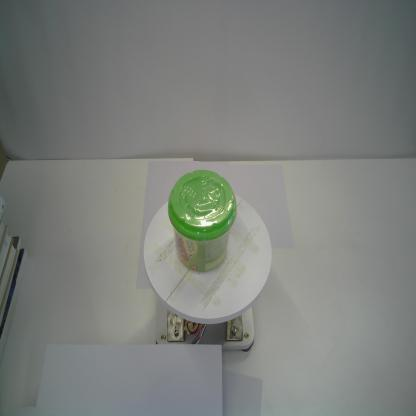Instant Drink: (166, 168, 238, 274)
